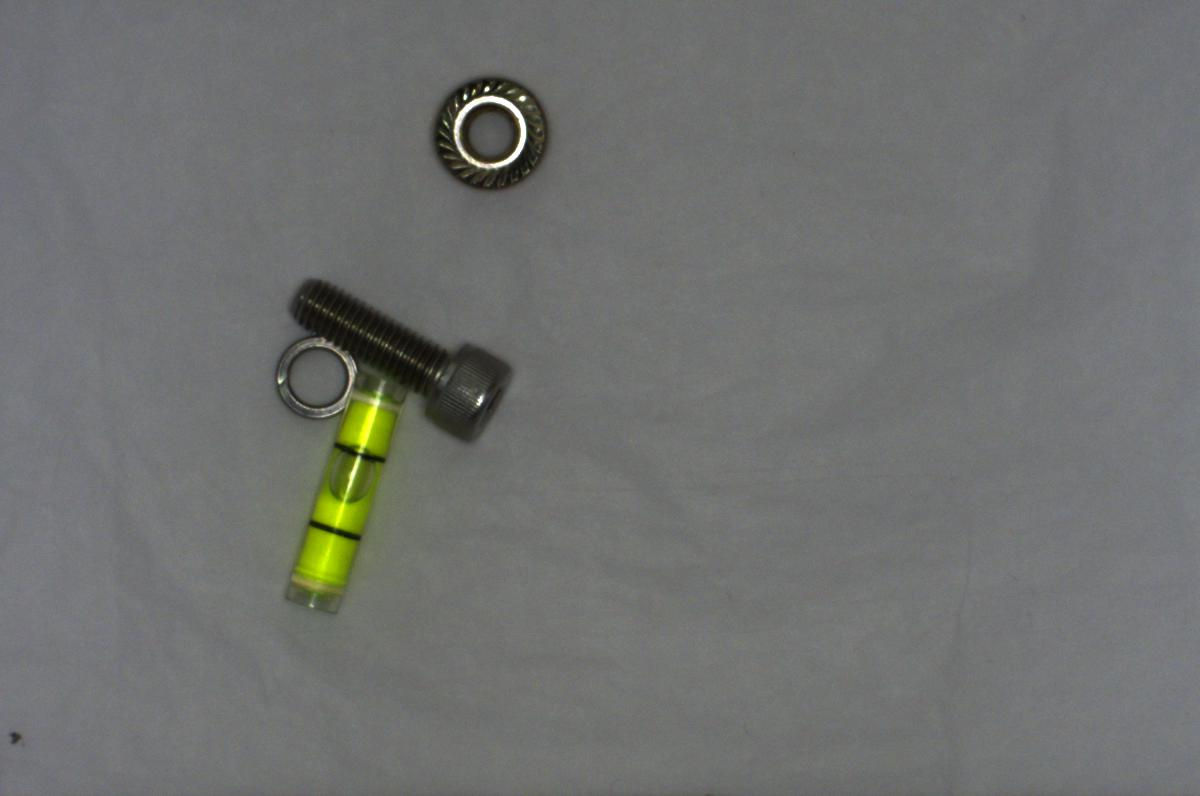Flange nut: (422, 67, 557, 194)
Hexagon screw: (286, 275, 511, 440)
Horizontal bubble: (278, 359, 415, 614)
Spring washer: (268, 334, 357, 421)
